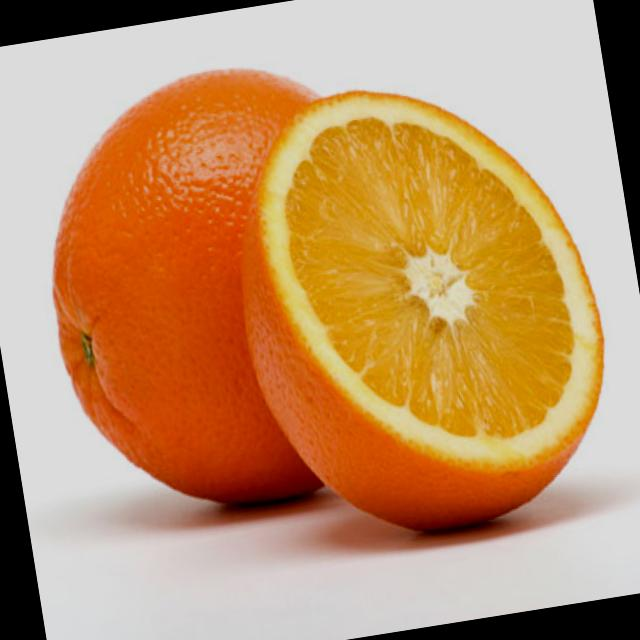orange: (19, 47, 468, 546)
